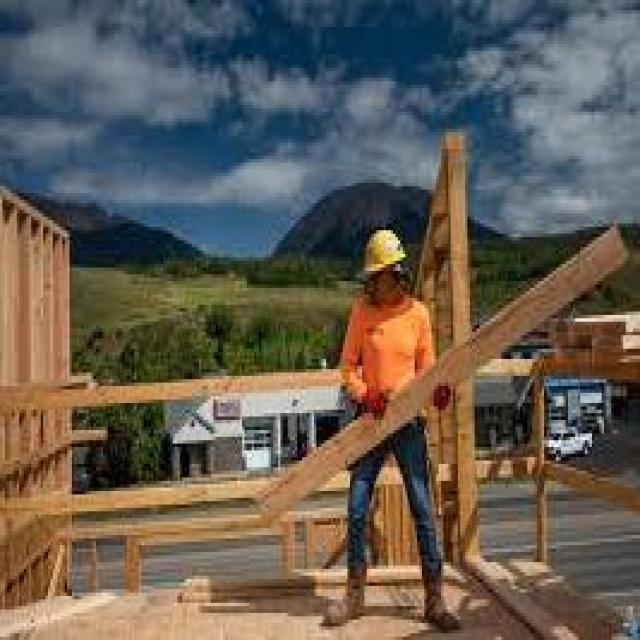Safety-Helmet: (352, 220, 417, 291)
